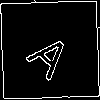A: (25, 25, 82, 82)
